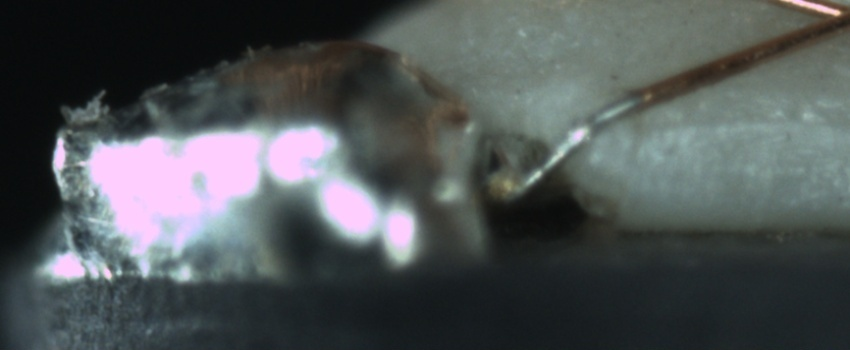CL: (777, 0, 850, 44)
DL: (651, 89, 849, 154)
TS: (520, 92, 643, 193)
TTCW: (501, 78, 673, 202)
